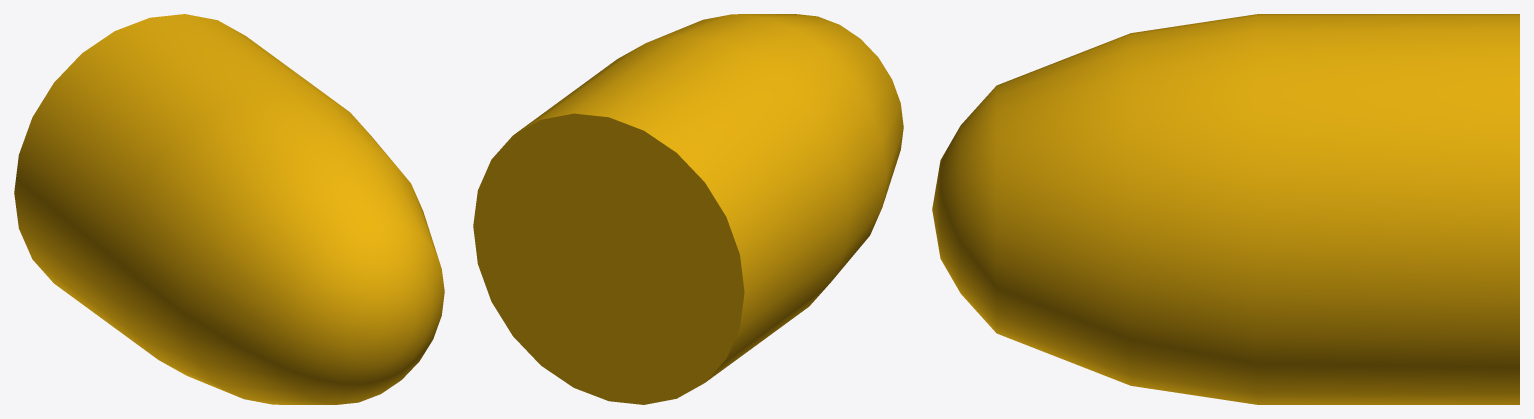
The model's file is bullet.glb.
The picture shows the model from 3 angles, left to right: view 1: azimuth 30°, elevation 25°; view 2: azimuth 150°, elevation 25°; view 3: azimuth 270°, elevation 25°; orthographic projection. The views are drawn at different scales.
Visible parts, largest first — view 1: bullet; view 2: bullet; view 3: bullet.
Boxes of the visible parts, x1,y1,x2,y2 form: bullet: (14, 14, 444, 404); bullet: (473, 14, 903, 404); bullet: (932, 14, 1519, 404).
Size of the model in its own units: 2 by 2 by 2.99.
